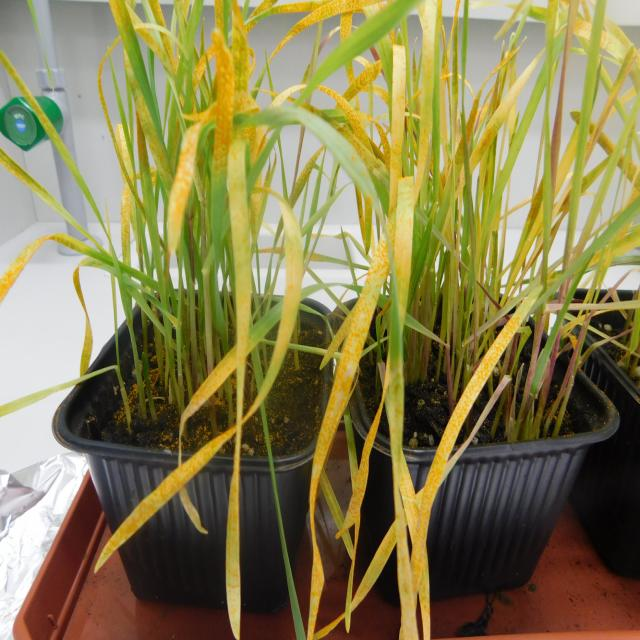wheat-yellowrust: (410, 297, 530, 639), (101, 438, 220, 567), (229, 143, 250, 636), (213, 34, 234, 197), (168, 136, 199, 241), (389, 44, 406, 219)
